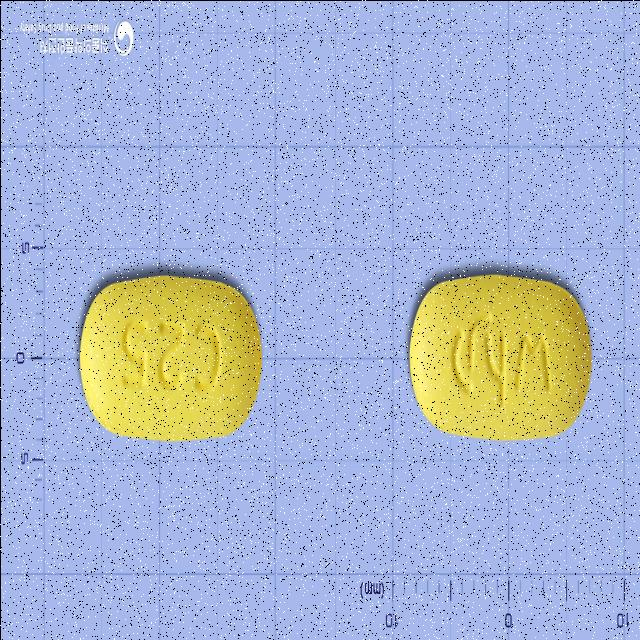Claton: (76, 269, 262, 446), (406, 272, 594, 442)
